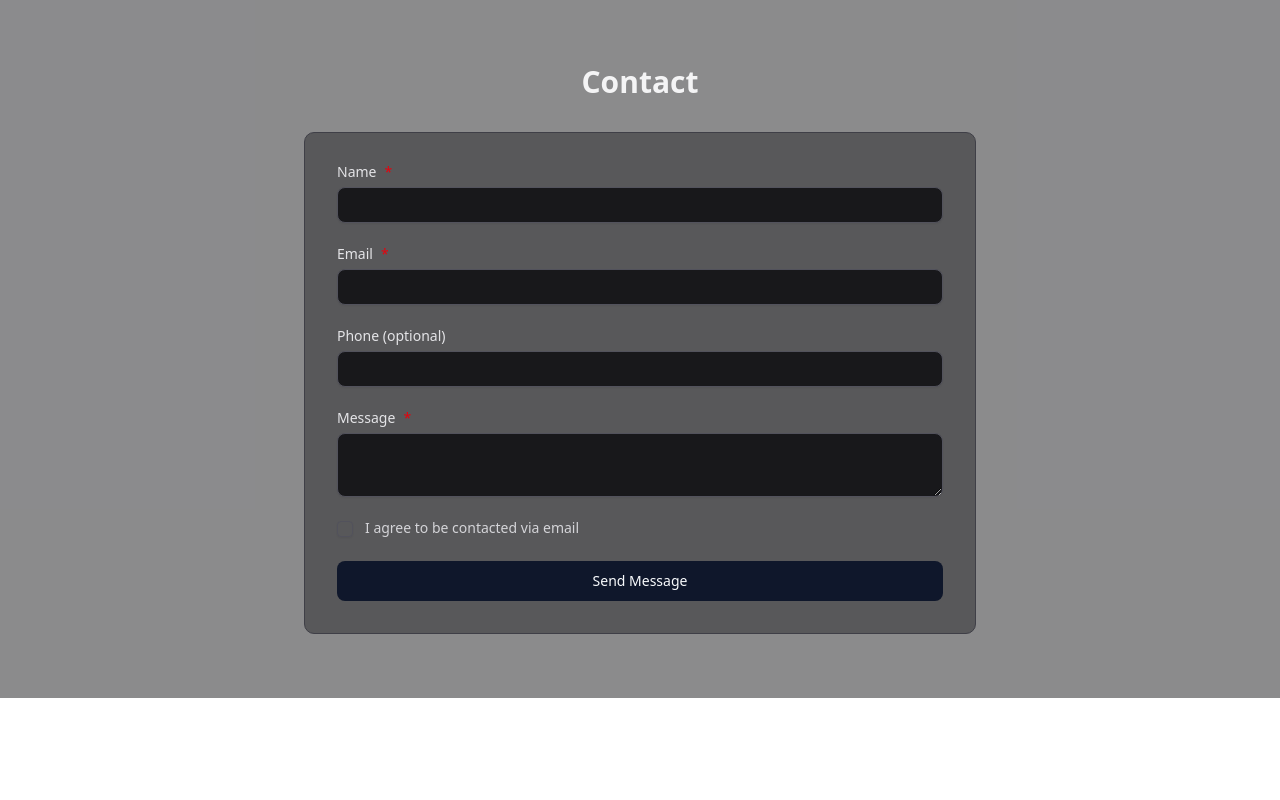
Test: ContactForm › when validating › should show error when consent not given
The image size is (1280, 800).
Type "John Doe" into the field labelled "Name" at (640, 205), box [337,187,943,223]
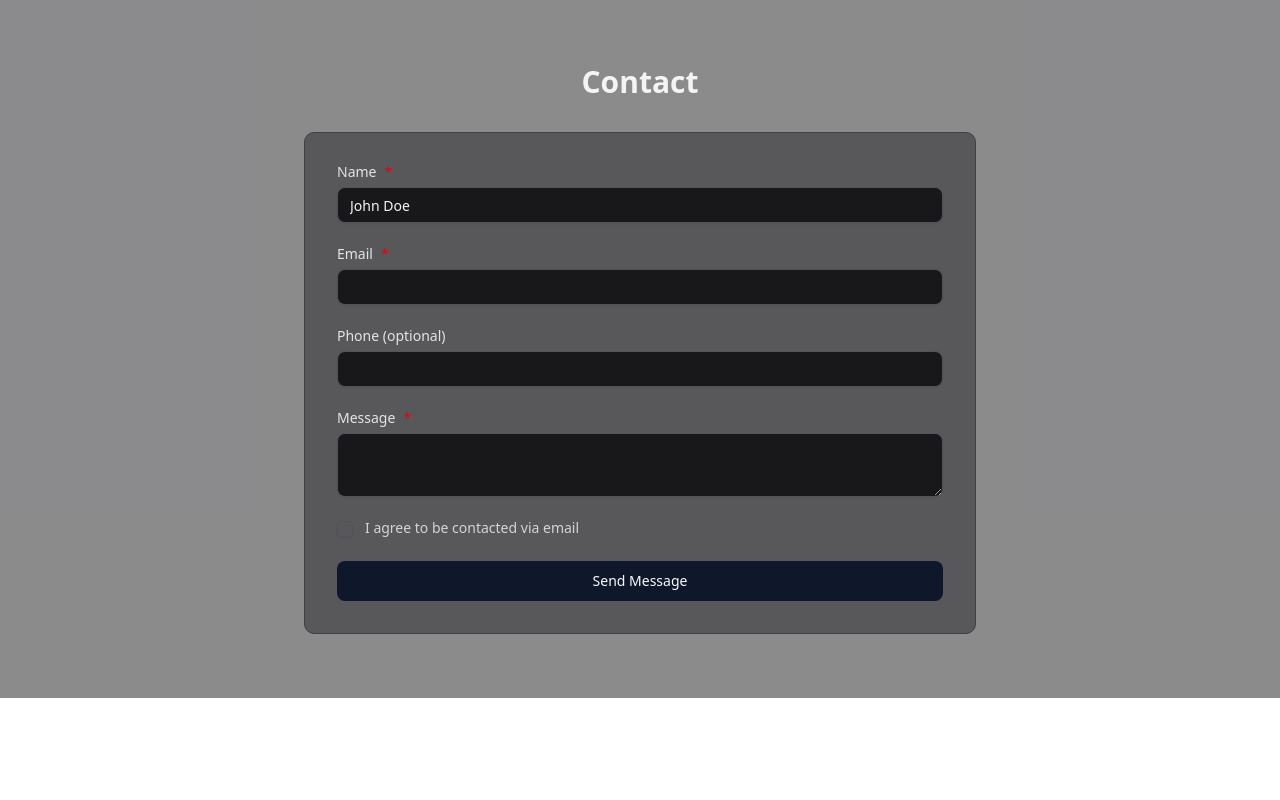
Type "john@example.com" into the field labelled "Email" at (640, 287), box [337,269,943,305]
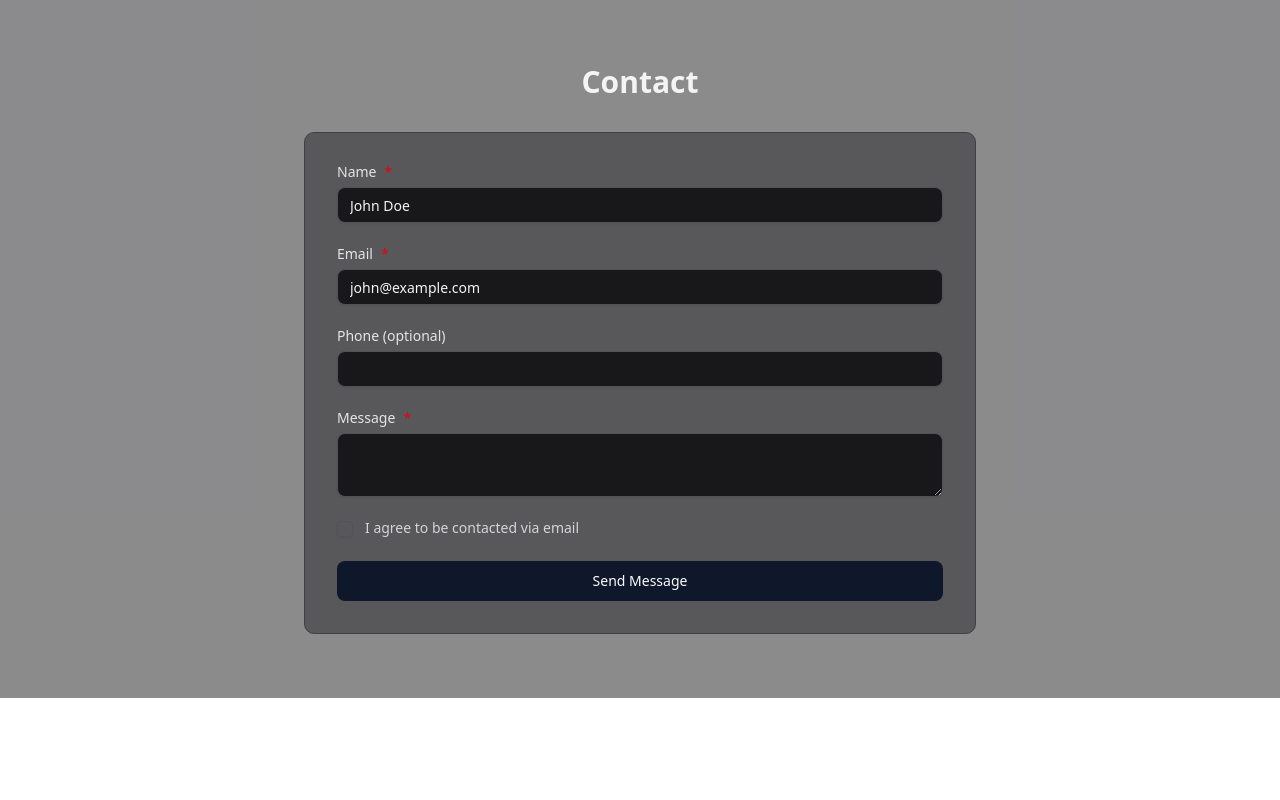
Type "This is a valid message with enough characters." into the text box labelled "Message" at (640, 465), box [337,433,943,497]
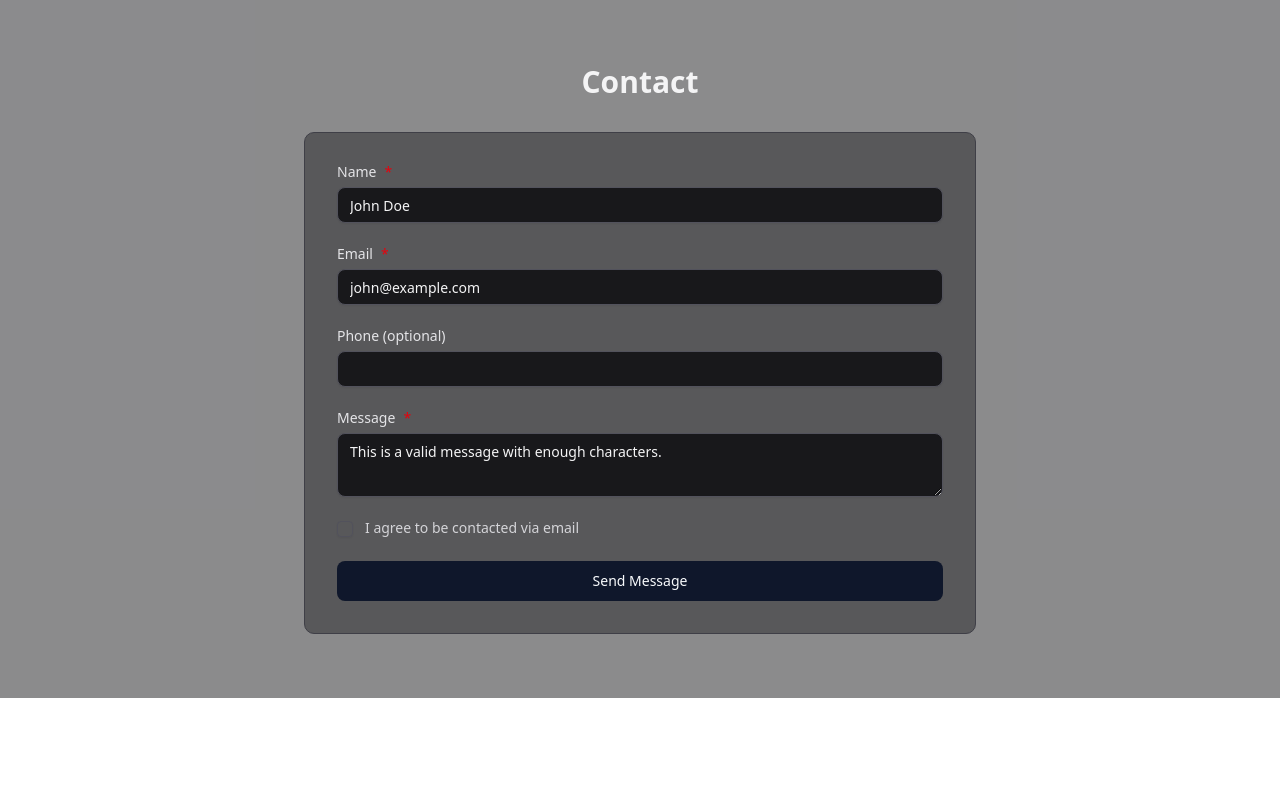
# Don't check consent
Click the button "Send Message" at (640, 581), box [337,561,943,601]
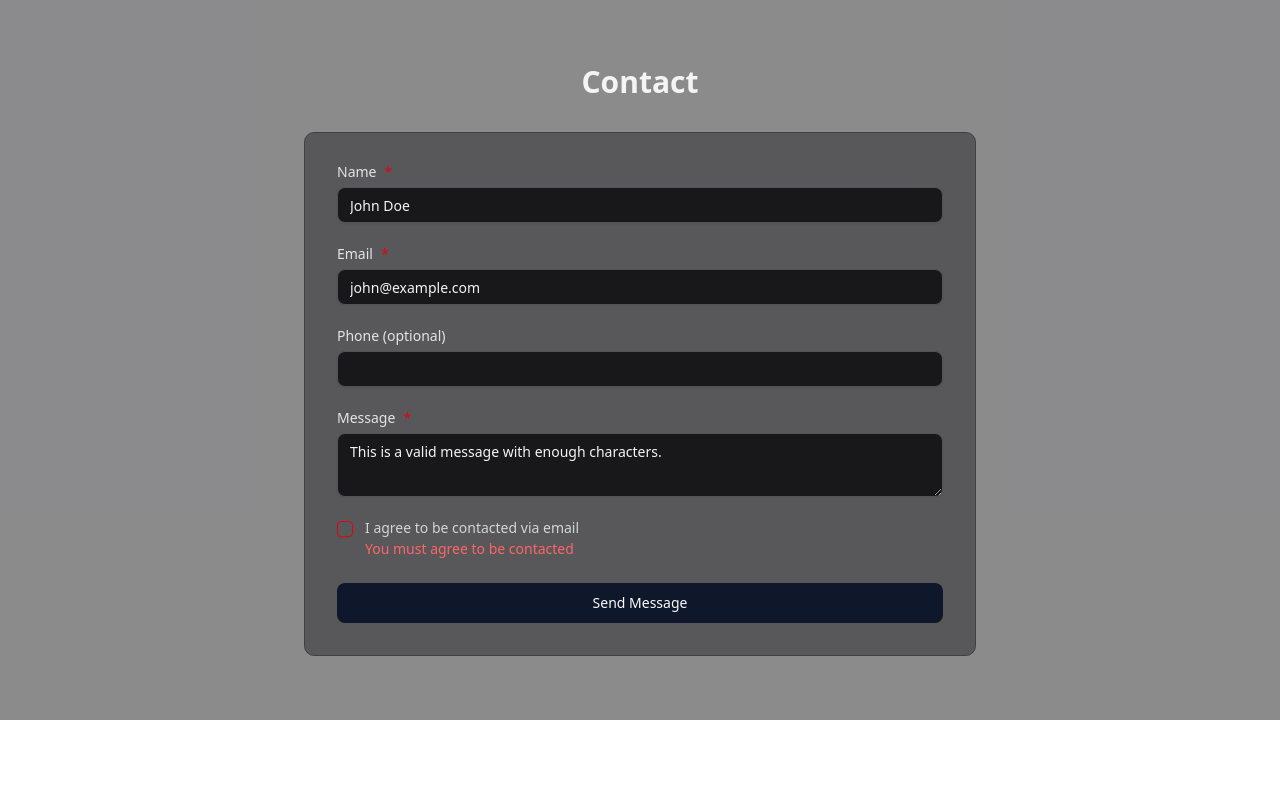
expect the text "You must agree to be contacted" is shown: met, box [365,539,579,559]
